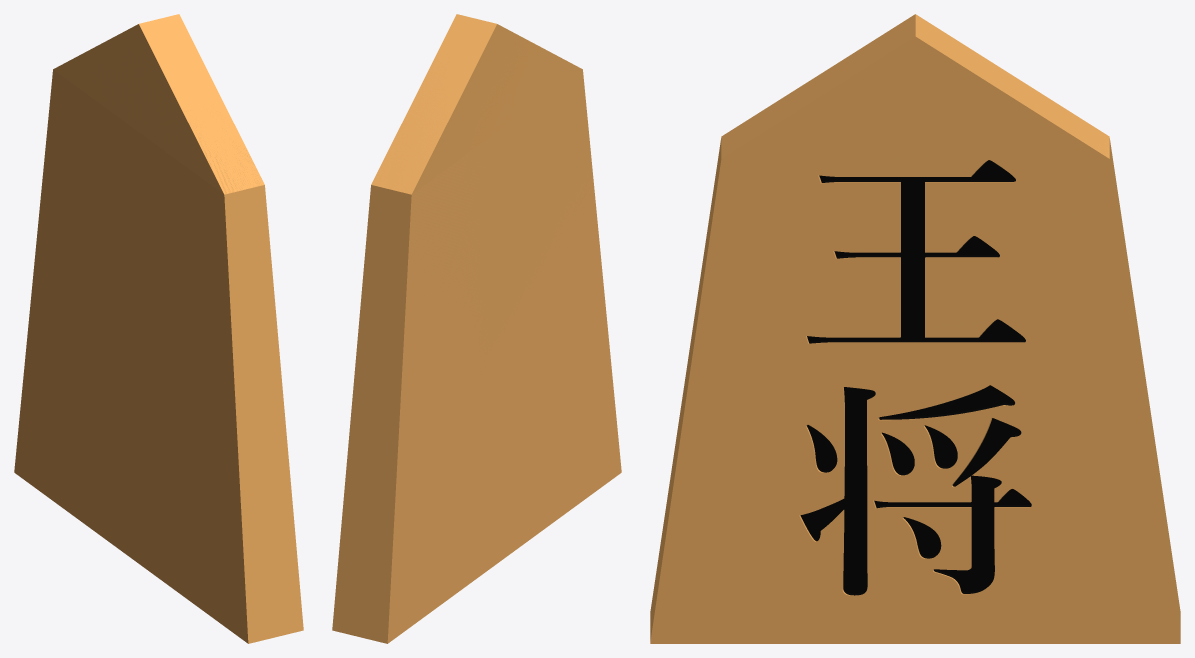
File: King.fbx
3 views of the same model, side by side, from view 1: azimuth 30°, elevation 25°; view 2: azimuth 150°, elevation 25°; view 3: azimuth 270°, elevation 25° (orthographic). The views are drawn at different scales.
Visible parts, largest first — view 1: Cube, Cube.001; view 2: Cube, Cube.001; view 3: Cube.001, Cube.
Part boxes in pixels (x1,y1,x2,y2): Cube: (14,14,288,643); Cube.001: (15,25,303,643); Cube: (332,24,621,643); Cube.001: (354,14,595,432); Cube.001: (650,14,1179,643); Cube: (659,14,1180,643).
Bounding box in the file's own units: 27.33 × 251 × 200.
4 materials, 4 textured.
